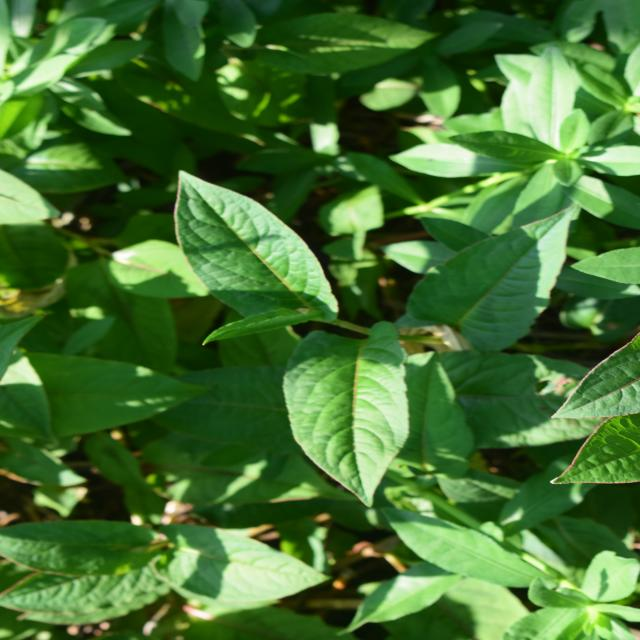Chinese_knotweed: (180, 174, 460, 588)
